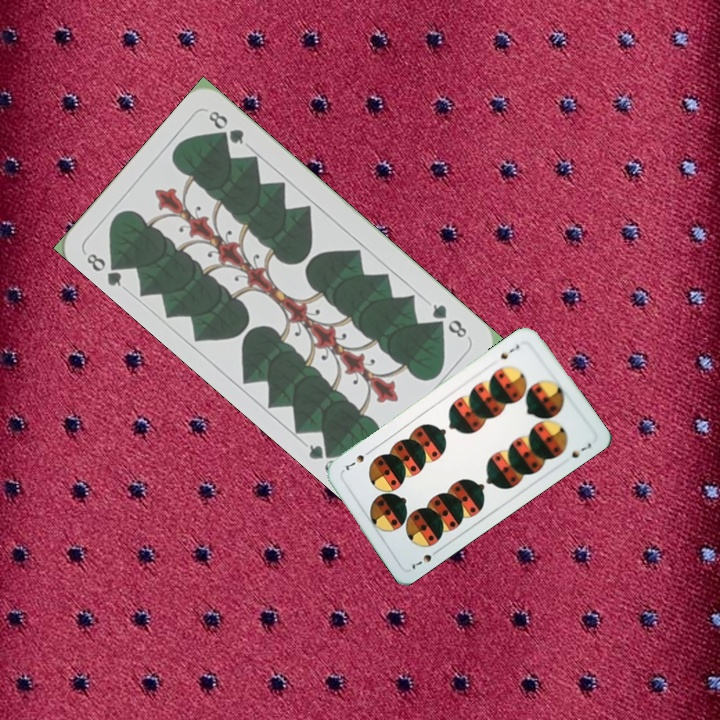G8: (82, 249, 128, 290), (427, 299, 470, 341)
S7: (408, 545, 442, 573), (496, 340, 522, 362)
